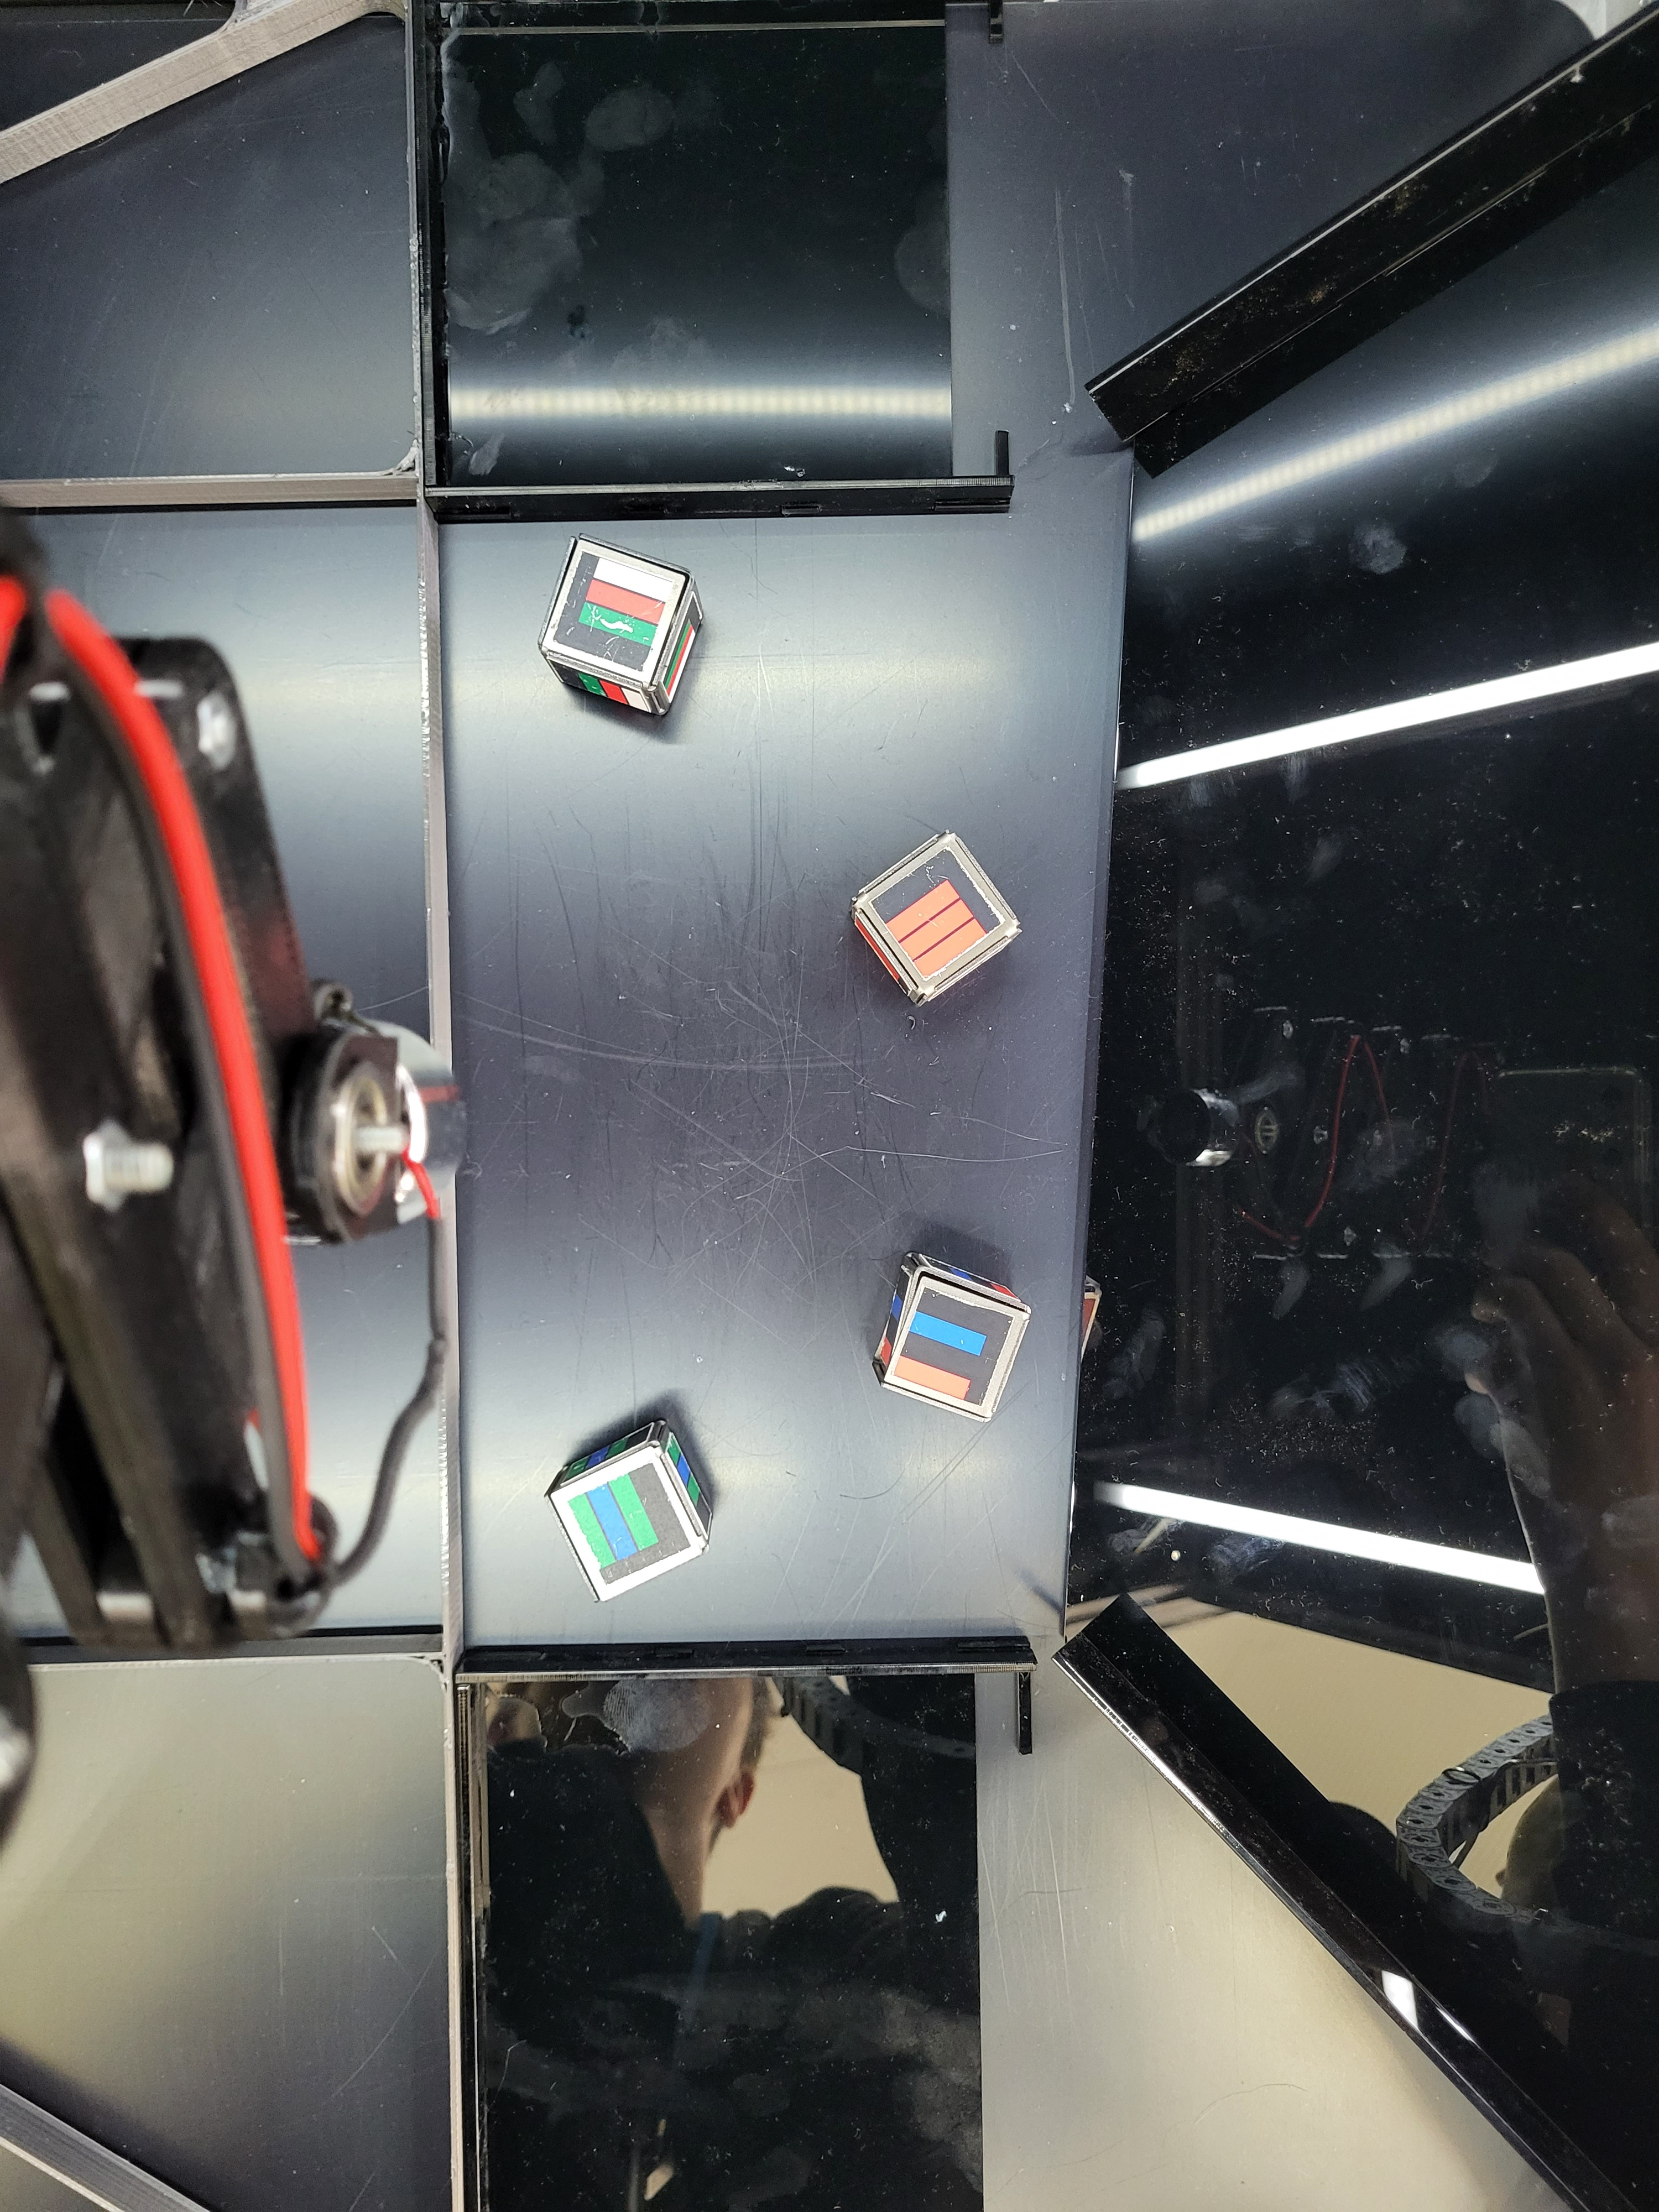Cube: (821, 806, 1018, 1012), (861, 1237, 1063, 1425), (538, 1414, 727, 1608), (521, 524, 709, 704)
